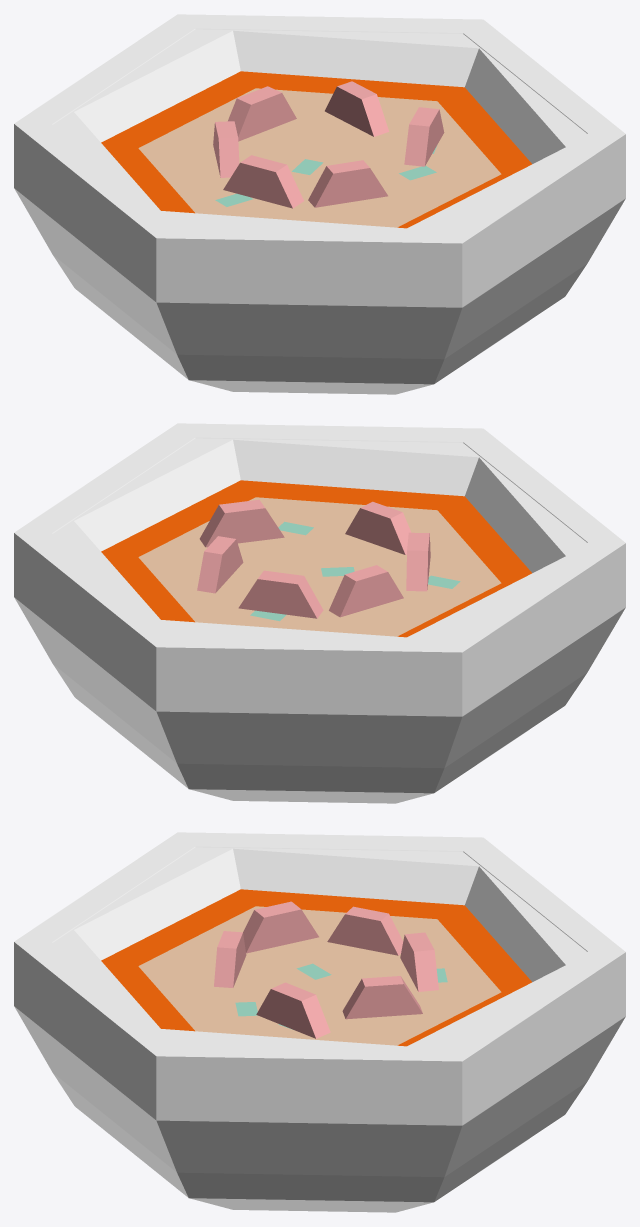
The model's file is asset.glb.
3 views of the same model, one above another, from view 1: azimuth 30°, elevation 25°; view 2: azimuth 150°, elevation 25°; view 3: azimuth 270°, elevation 25° (orthographic).
Visible parts, largest first — view 1: bowlSoup__2_, bowlSoup__1_; view 2: bowlSoup__2_, bowlSoup__1_; view 3: bowlSoup__2_, bowlSoup__1_.
Part boxes in pixels (<box>): bowlSoup__2_: <box>14,14,625,394</box>; bowlSoup__1_: <box>53,29,586,229</box>; bowlSoup__2_: <box>14,423,625,803</box>; bowlSoup__1_: <box>53,438,586,638</box>; bowlSoup__2_: <box>14,832,625,1212</box>; bowlSoup__1_: <box>53,847,586,1047</box>.
Size of the model in its own units: 51.33 by 21.38 by 57.94.
